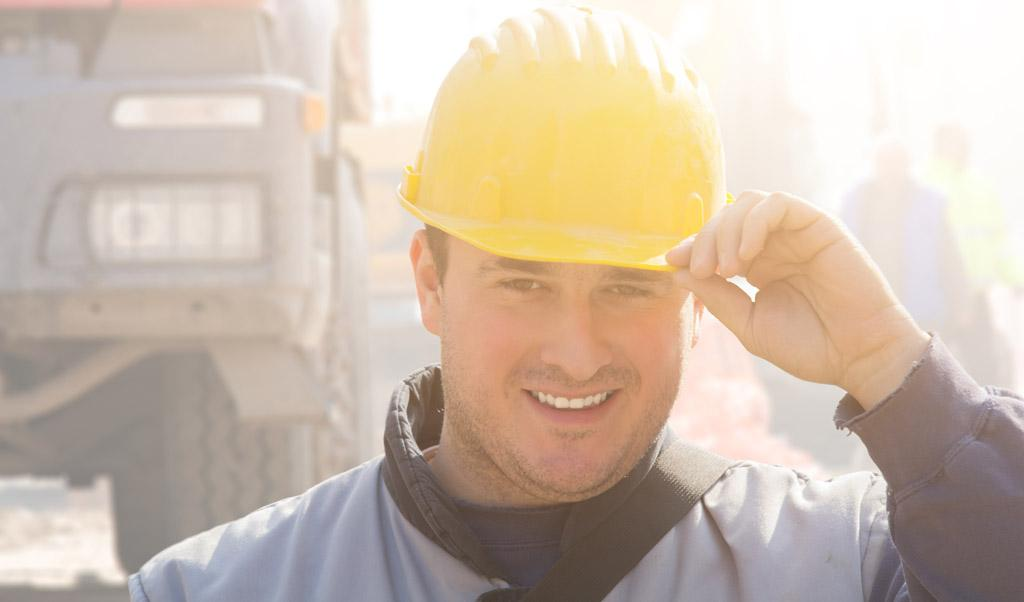helmet: (409, 15, 725, 269)
